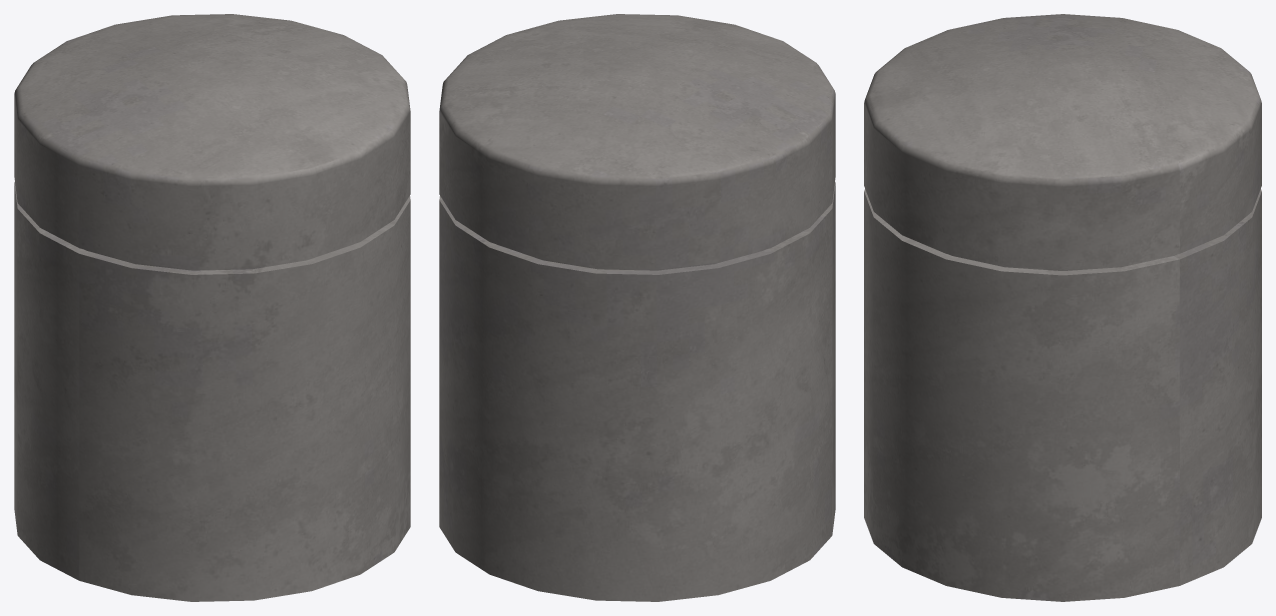
File: barrier.glb
3 views of the same model, side by side, from view 1: azimuth 30°, elevation 25°; view 2: azimuth 150°, elevation 25°; view 3: azimuth 270°, elevation 25° (orthographic).
Visible parts, largest first — view 1: barrier; view 2: barrier; view 3: barrier.
Boxes of the visible parts, x1,y1,x2,y2 form: barrier: (14,14,410,601); barrier: (439,14,835,601); barrier: (864,14,1261,601).
Bounding box in the file's own units: 0.9998 × 1.24 × 0.9998.
1 material, 1 textured.
